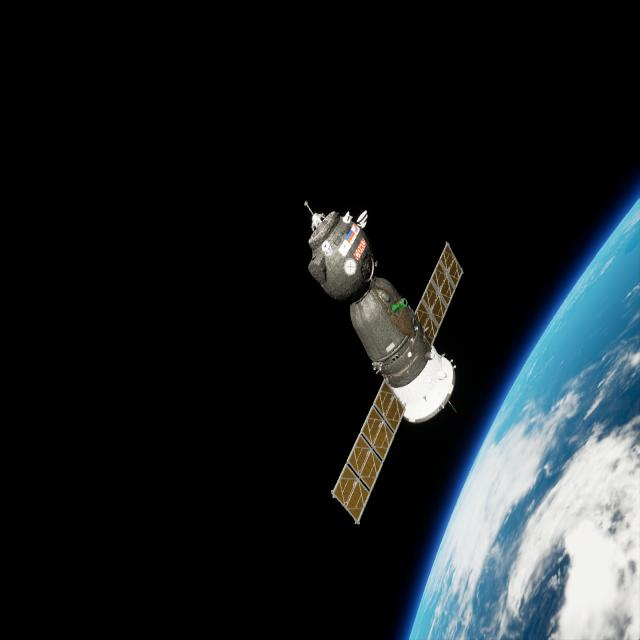Satellites revolving around earth: (407, 194, 639, 638), (301, 197, 466, 526)
